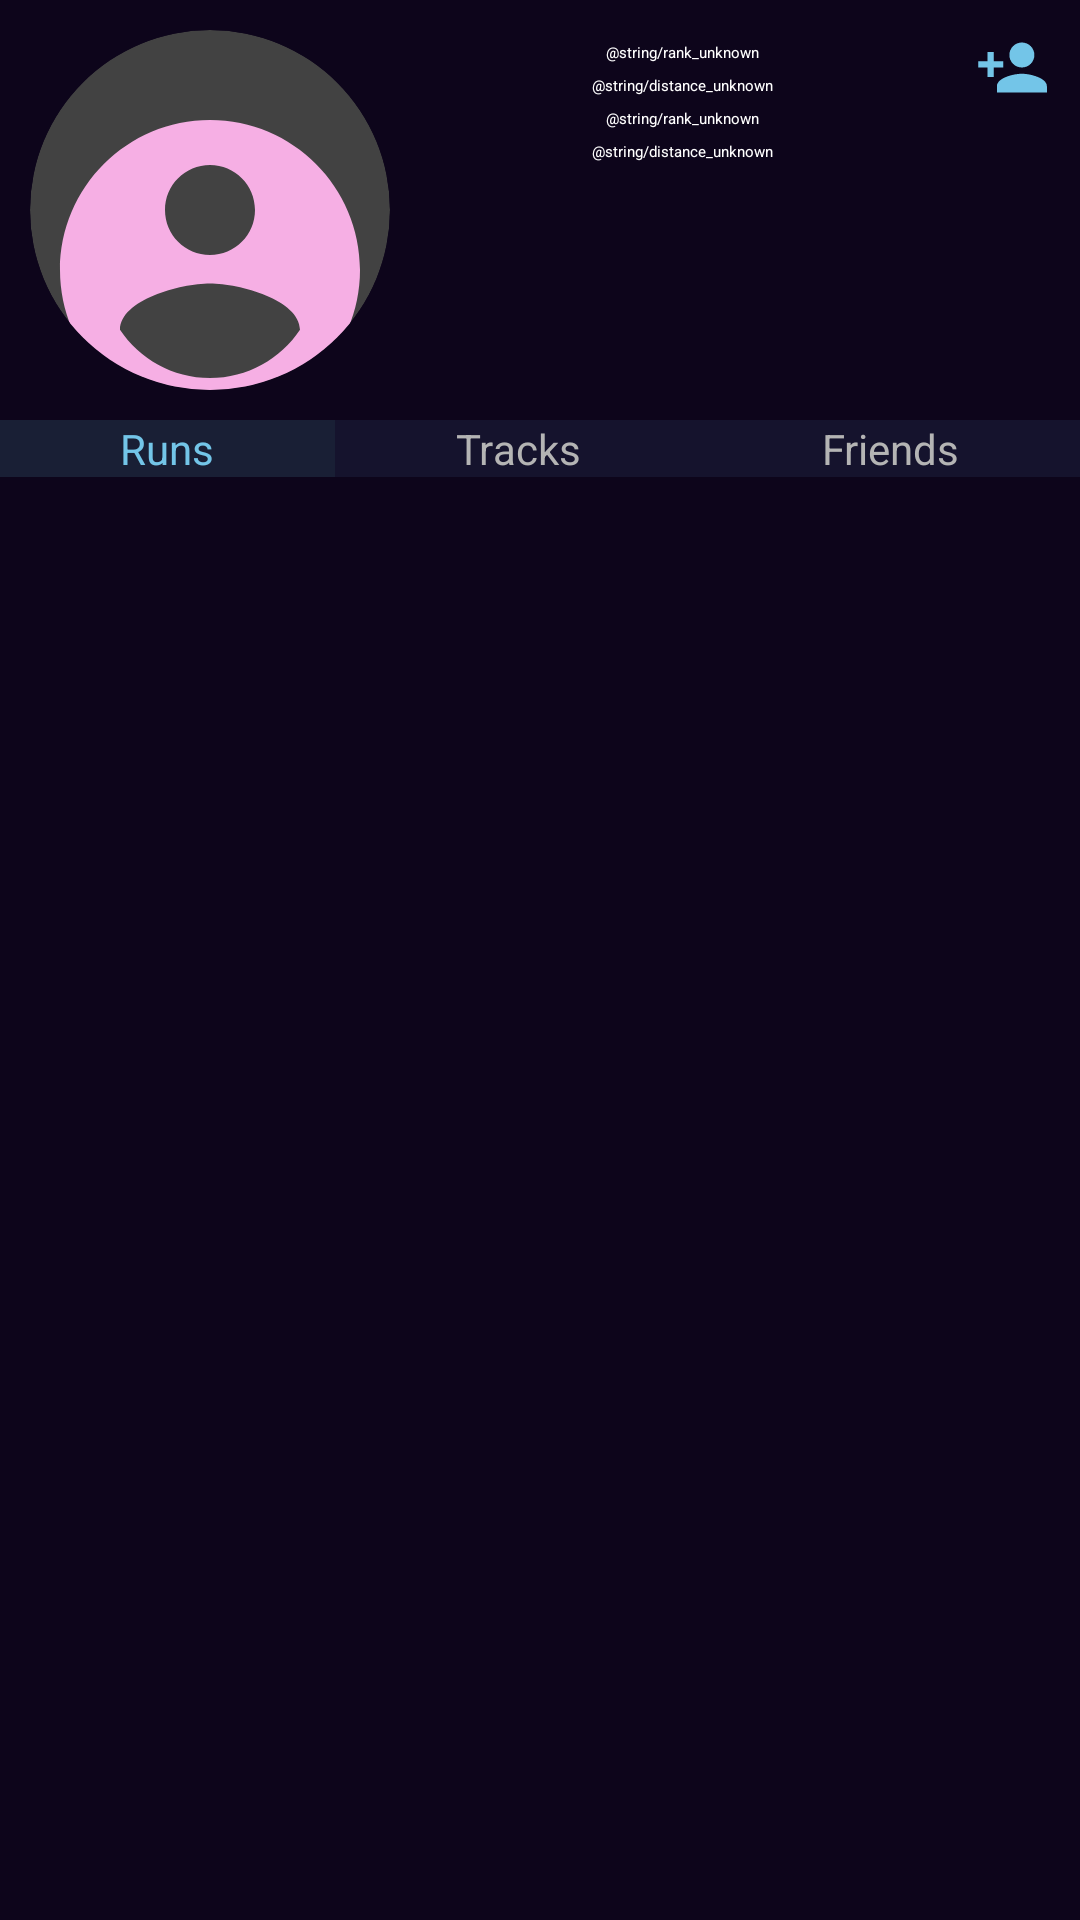

Point at icon controls on the screen. Image size 1080*1920, points as [x,y].
person add: [1012,67]
